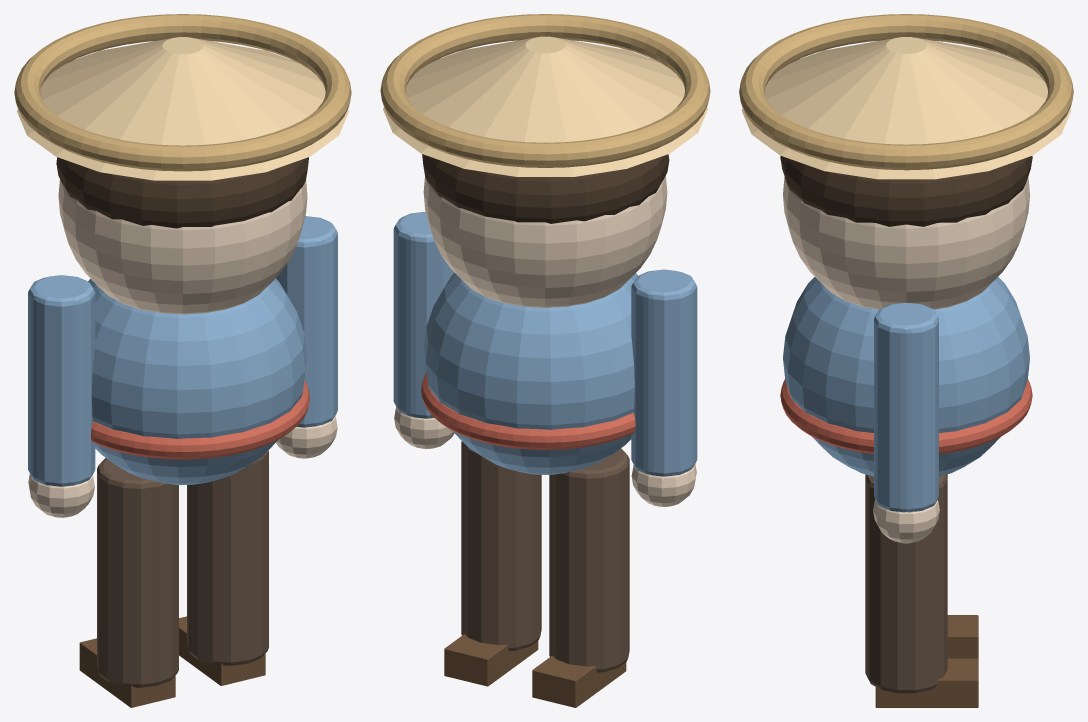
The model's file is chibi.glb.
3 renders of one model, left to right at view 1: azimuth 30°, elevation 25°; view 2: azimuth 150°, elevation 25°; view 3: azimuth 270°, elevation 25°, orthographic. The views are drawn at different scales.
Visible parts, largest first — view 1: chibi; view 2: chibi; view 3: chibi.
Part boxes in pixels (left/top/right/bottom): chibi: left=14, top=14, right=351, bottom=707; chibi: left=380, top=14, right=710, bottom=707; chibi: left=739, top=14, right=1073, bottom=707.
Size of the model in its own units: 0.6667 by 1.35 by 0.65.
